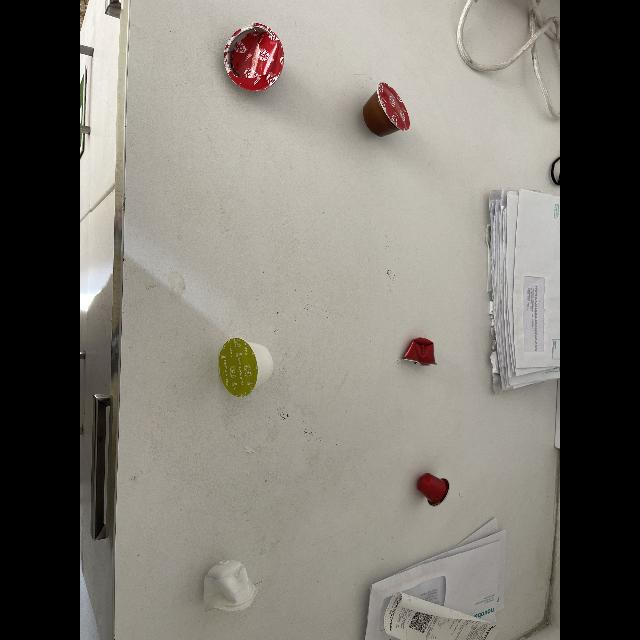damaged_capsule: (215, 20, 293, 94), (201, 554, 269, 620), (399, 335, 439, 367)
intact_capsule: (354, 81, 420, 142), (218, 334, 278, 398), (409, 472, 456, 508)
